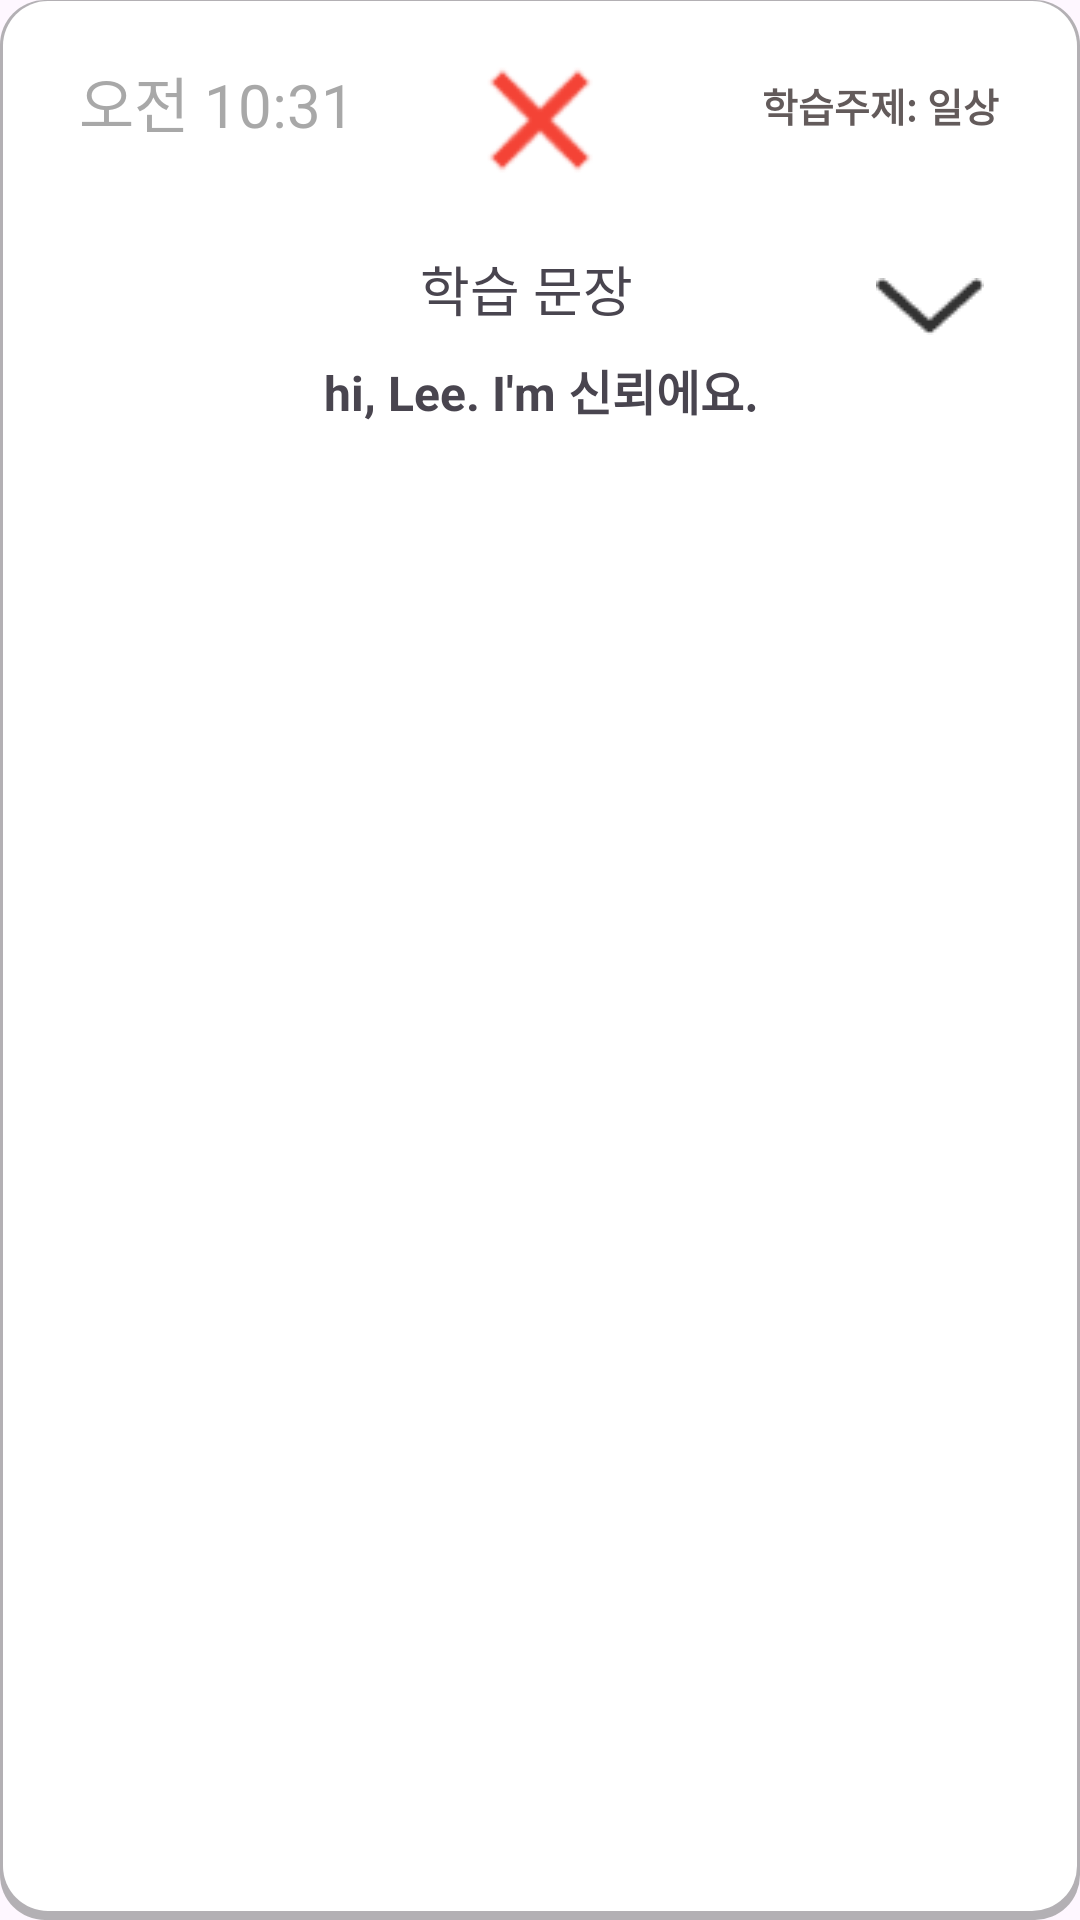

Icons on this 1080px x 1920px Android screen, each with its box as (x1=x1, y1=y1, x2=x2, y2=y2):
wrongsign: (x1=490, y1=70, x2=590, y2=170)
